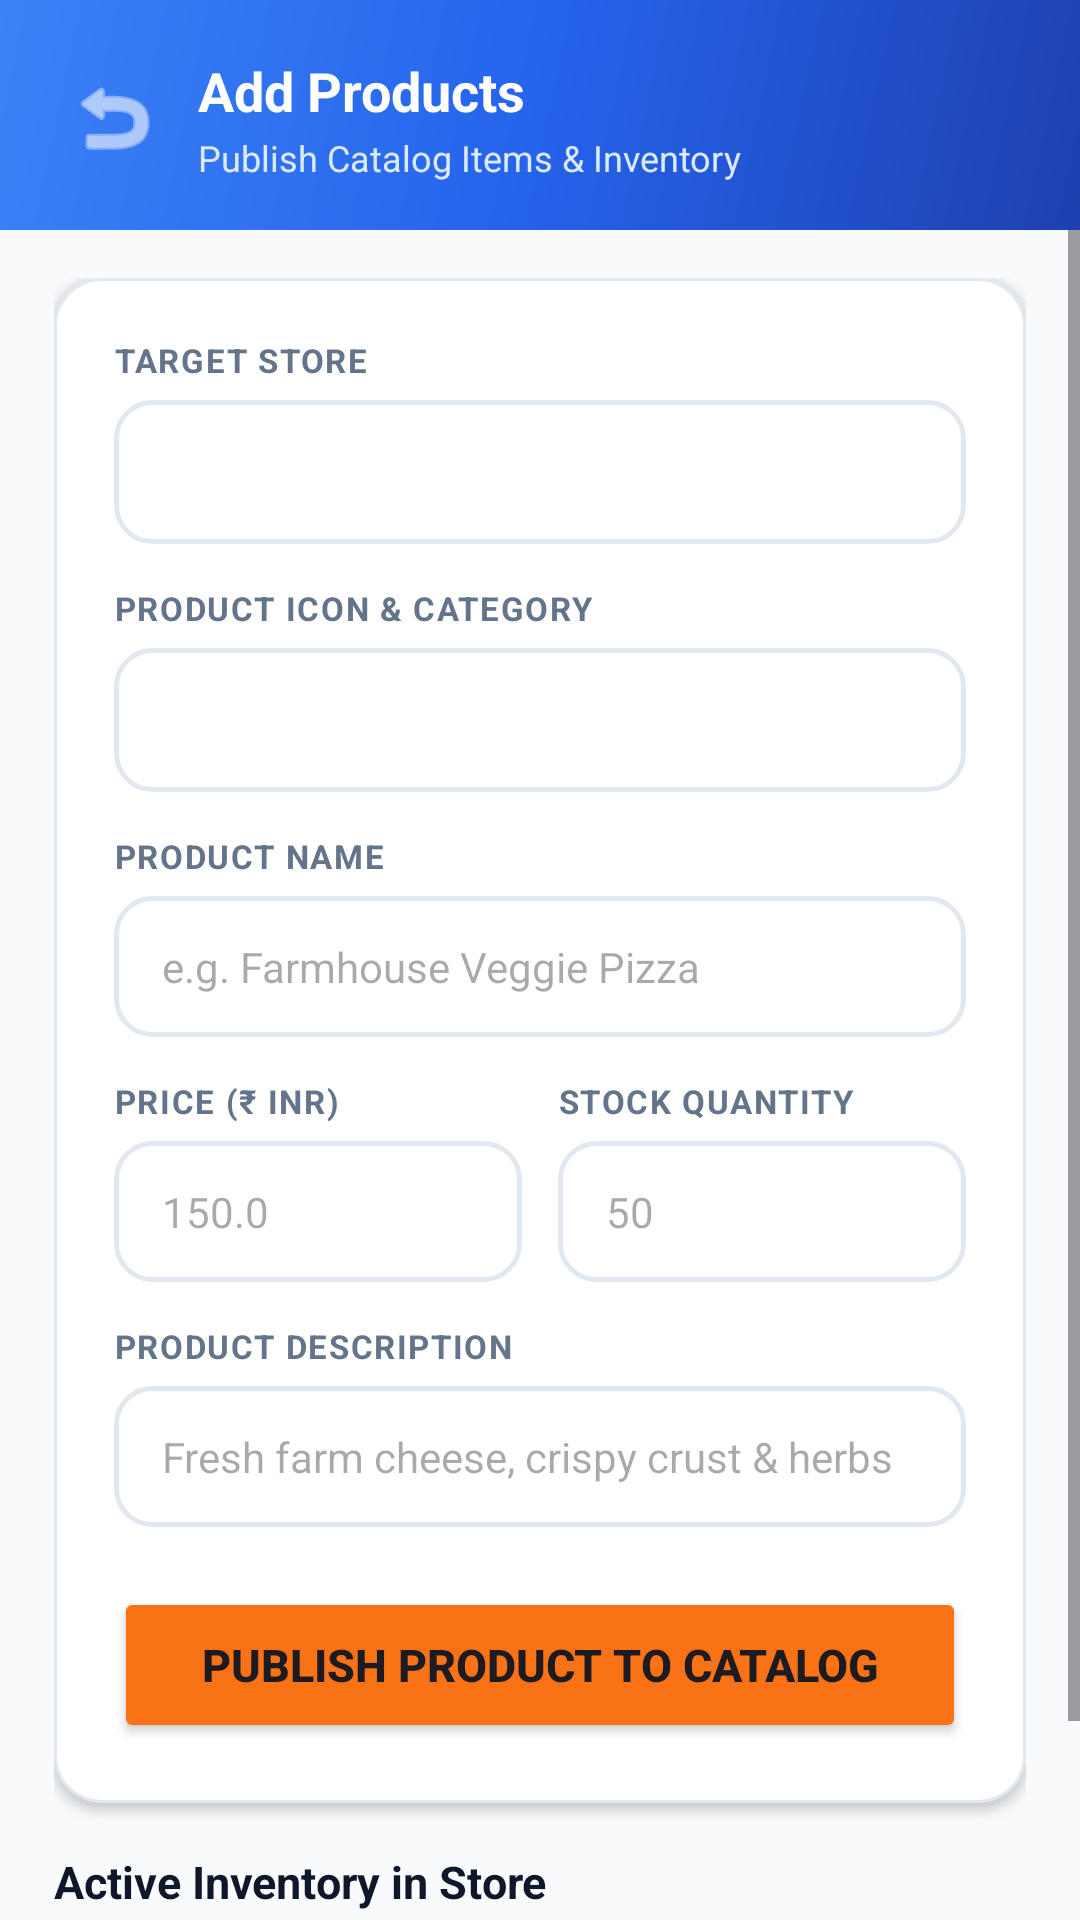

Icons on this 1080px×1920px Android screen, each with its box as (x1, y1, x2, y2):
Back: (81, 87, 150, 150)
